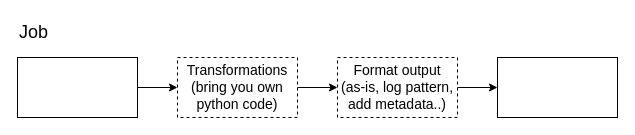
Some shapes in this 635 by 135 pixel diagram are drawn without their labels. Each missing label, with the centre of its shape:
"Source (url, file, db..)" belongs at point (77, 87).
"Target (db, file, blob..)" belongs at point (557, 87).
